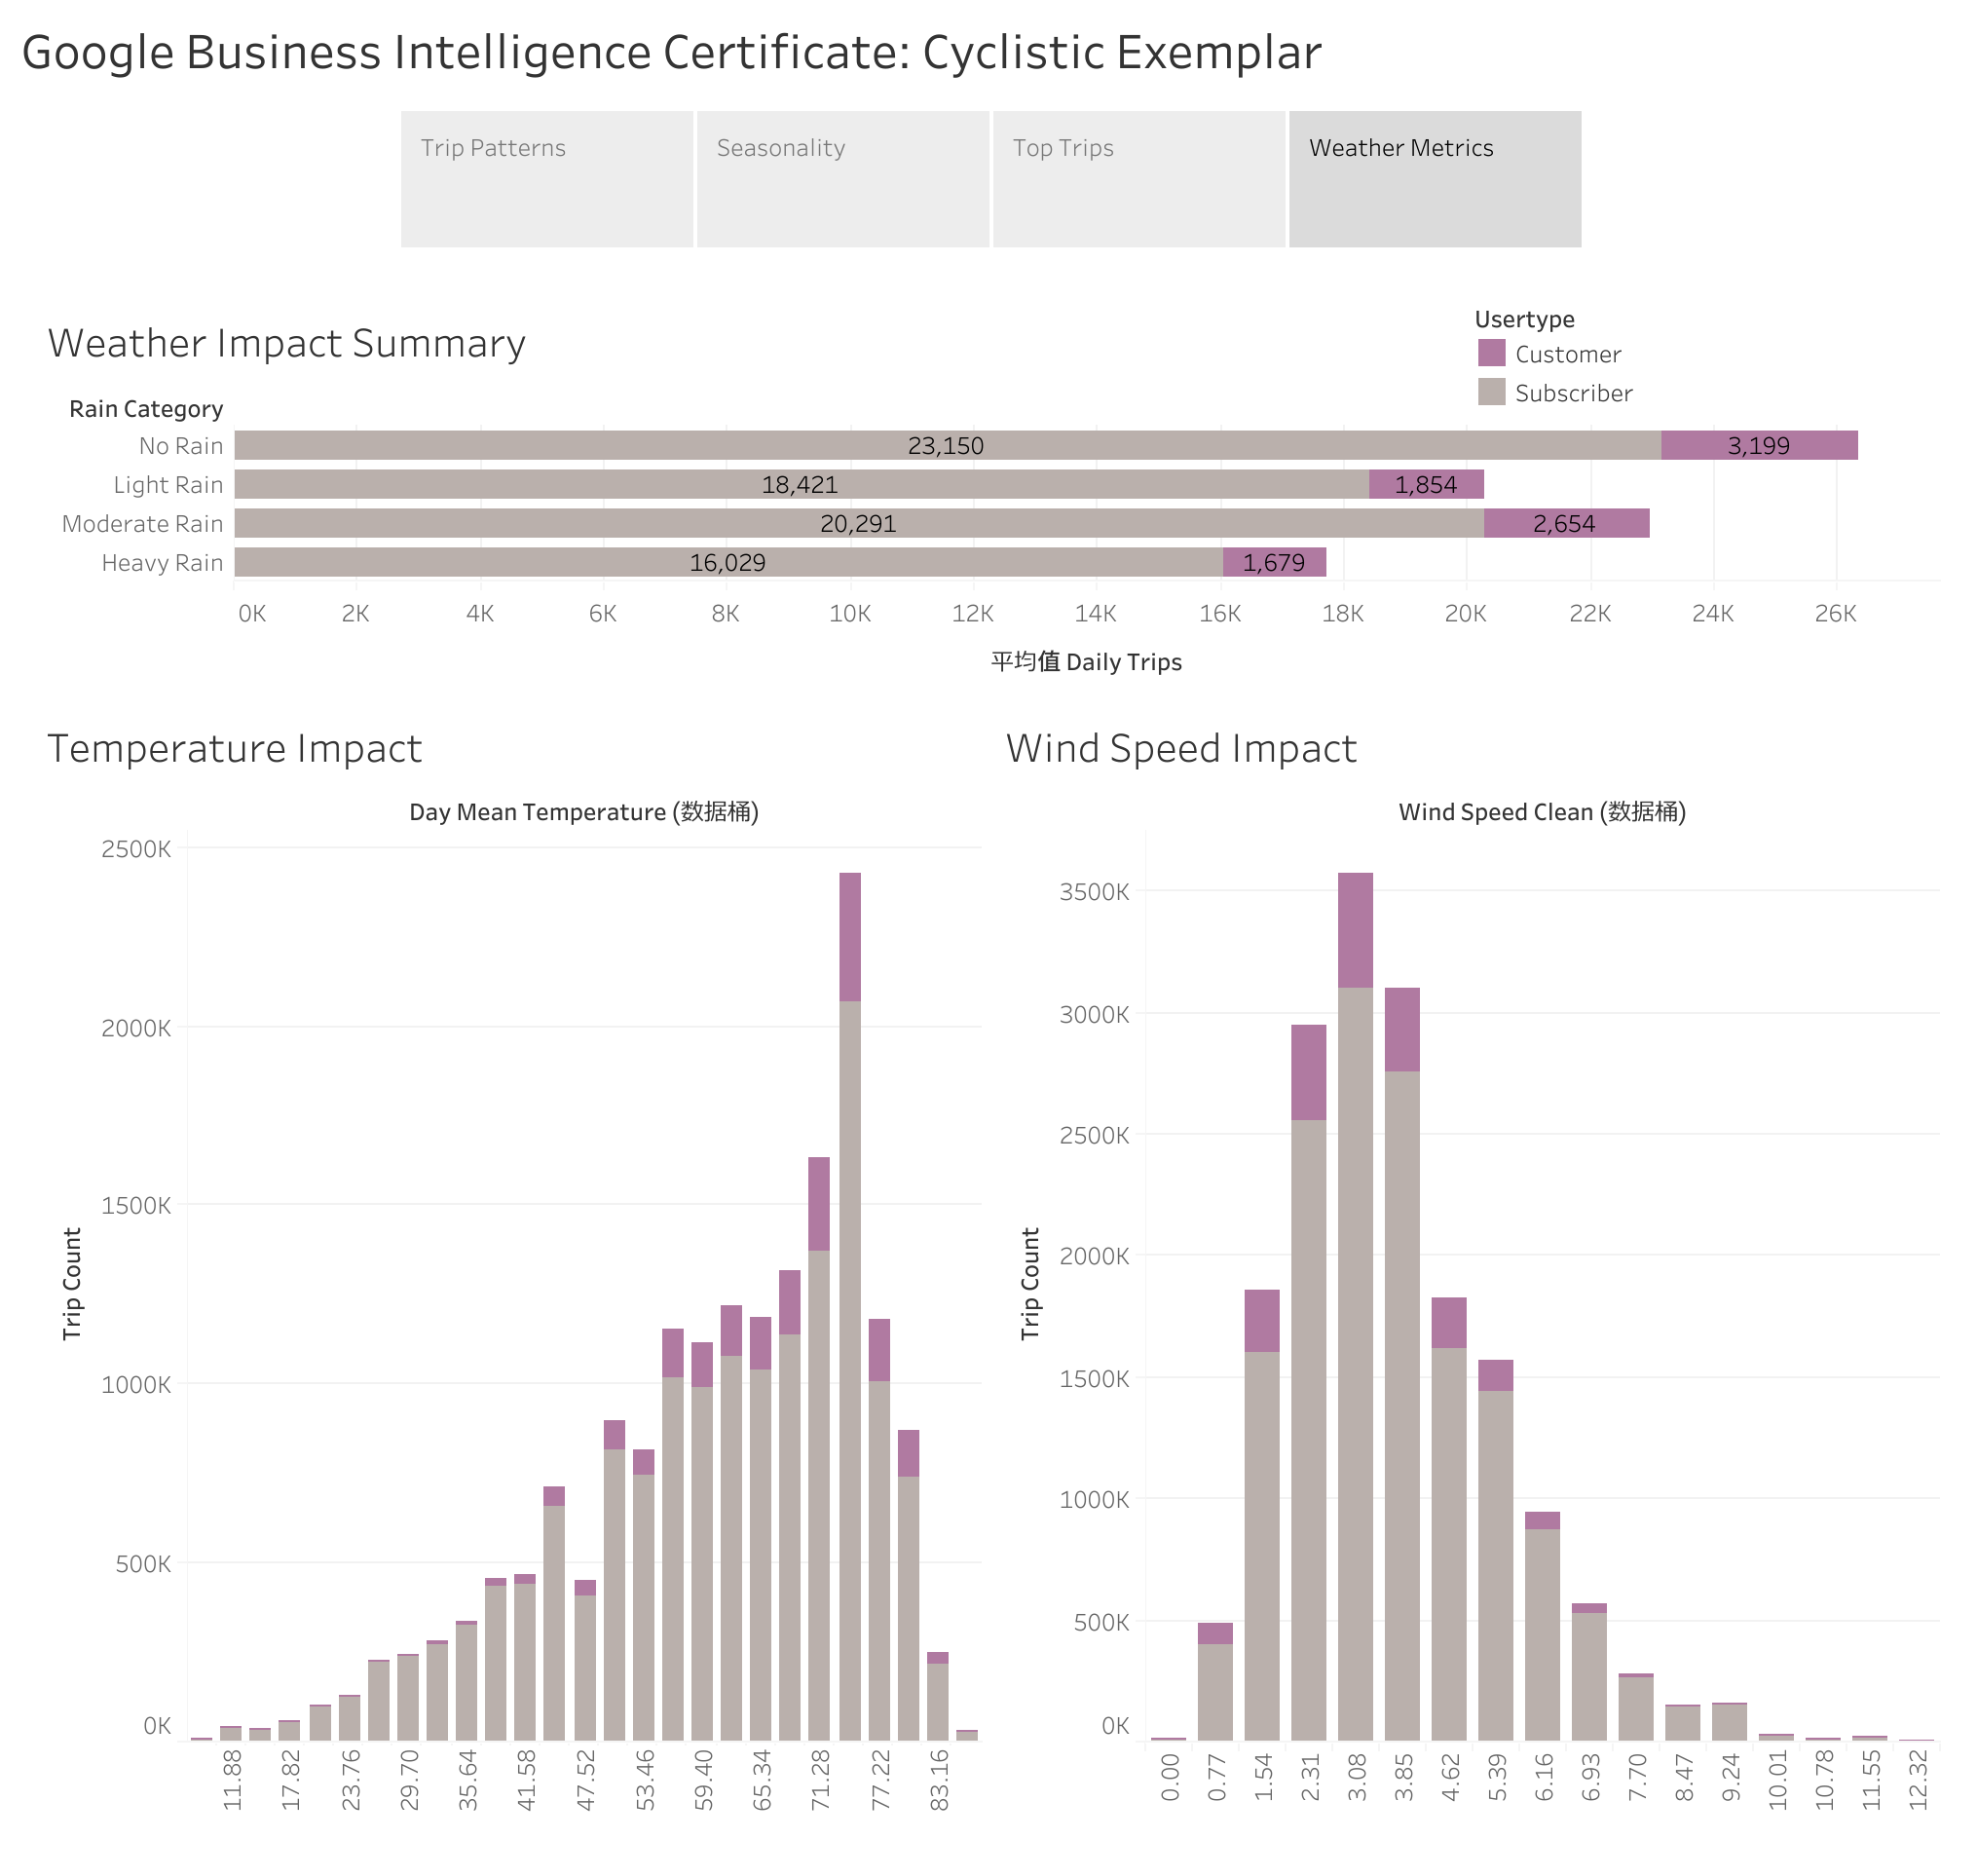

The dashboard page shown, as its layout file describes it:
{"tool":"tableau","page":{"name":"仪表板 4","canvas":[1000,800],"ordinal":3},"visuals":[{"type":"worksheet","title":"Weather Impact Summary","mark":"Bar","rows":["Calculation_0014179712319489"],"cols":["Calculation_0014179711123456"],"box":[8,8,984,208]},{"type":"legend","title":"Weather Impact Summary","param":"[federated.0zyo89q1uqor3h10m2qwc033ux3r].[none:usertype:nk]","box":[748,9,152,59]},{"type":"worksheet","title":"Temperature Impact","mark":"Automatic","rows":["trip_count"],"cols":["Day Mean Temperature (数据桶)"],"box":[8,216,492,576]},{"type":"worksheet","title":"Wind Speed Impact","mark":"Automatic","rows":["trip_count"],"cols":["Wind Speed Clean (数据桶)"],"box":[500,216,492,576]}]}

Visuals, with their boxes on the page's 1000x800 design canvas (x1, y1, x2, y2). These are canvas units, not pixel positions in the 1977x1876 screenshot, which may show the page scaled, cropped or inside an application window:
"Weather Impact Summary" worksheet (Bar marks): box=[8, 8, 992, 216]
"Weather Impact Summary" legend: box=[748, 9, 900, 68]
"Temperature Impact" worksheet: box=[8, 216, 500, 792]
"Wind Speed Impact" worksheet: box=[500, 216, 992, 792]
